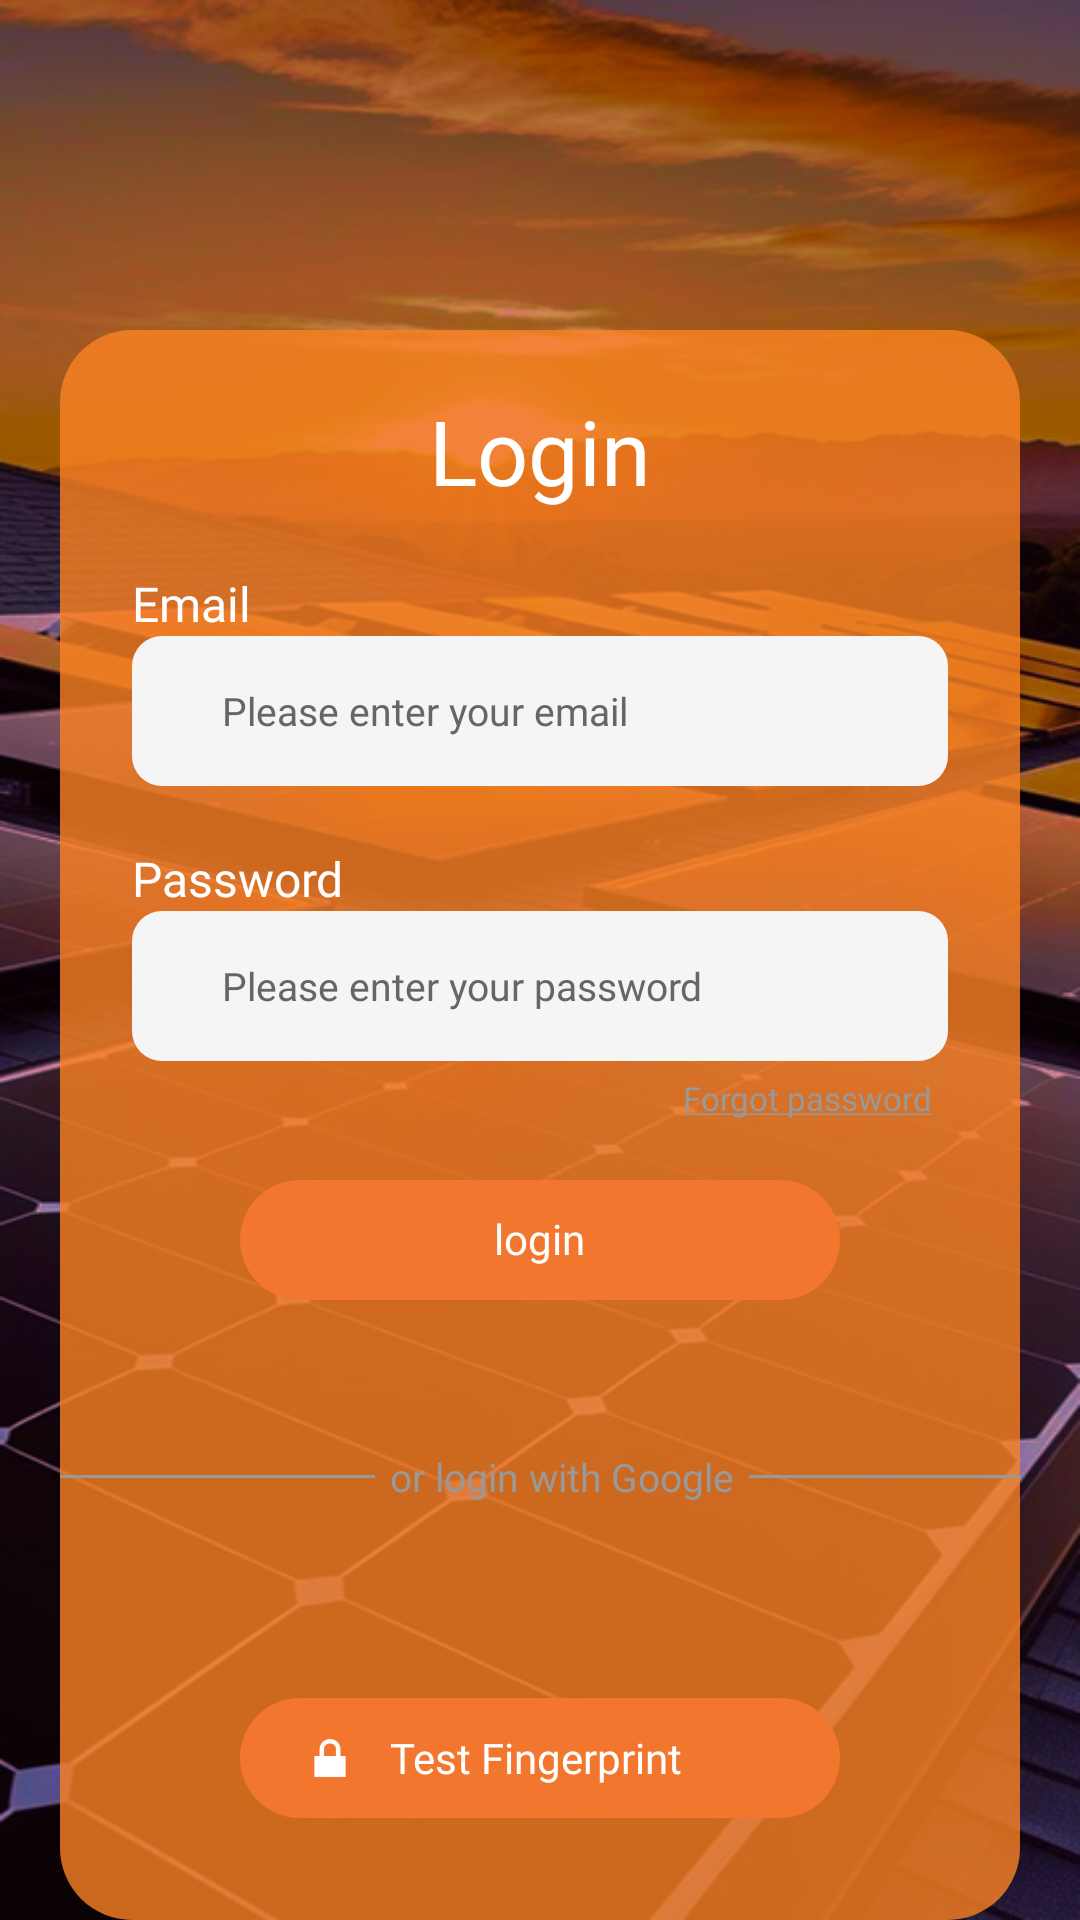

Where icons sit on this 1080×1920 app screen, as (x1, y1, x2, y2):
lock: (314, 1739, 346, 1777)
